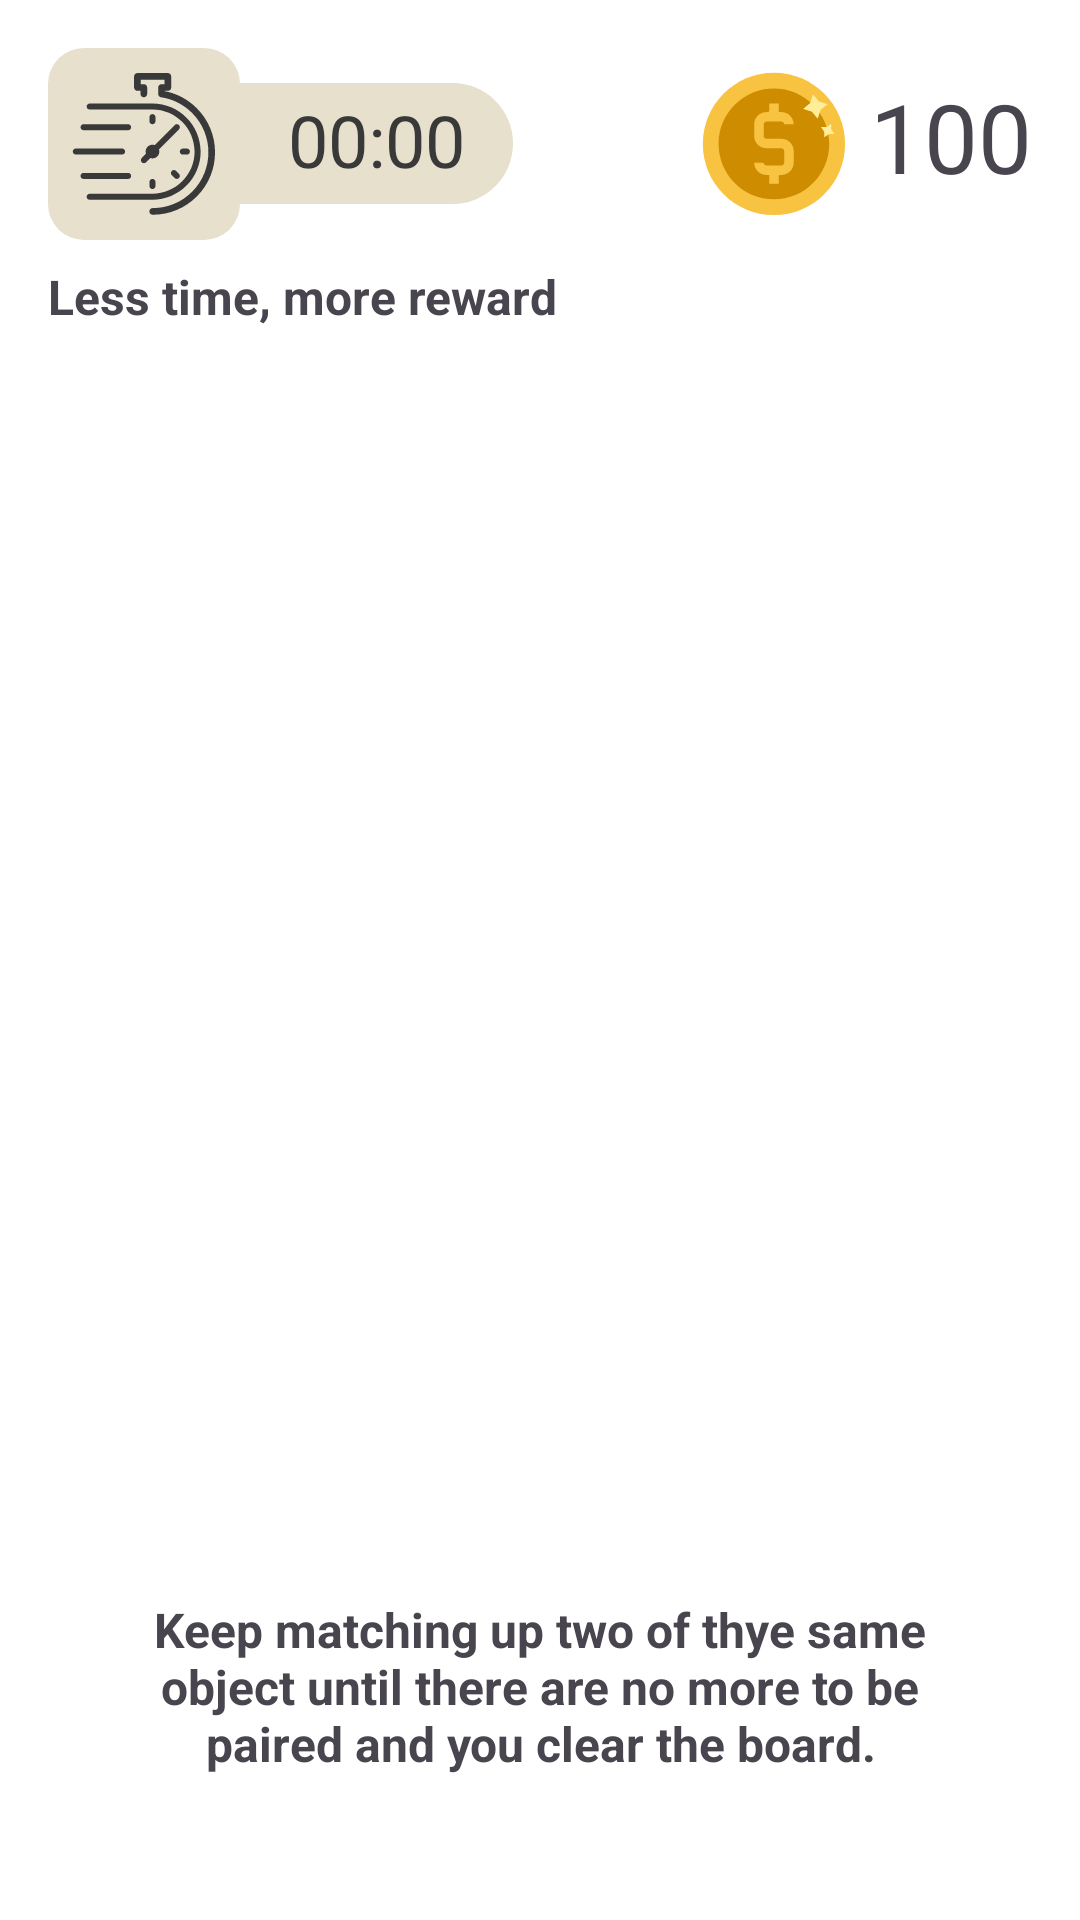

Named icons in this screenshot (1080 × 1920) and their centers, (x=x, y=y):
timer: (x=144, y=144)
